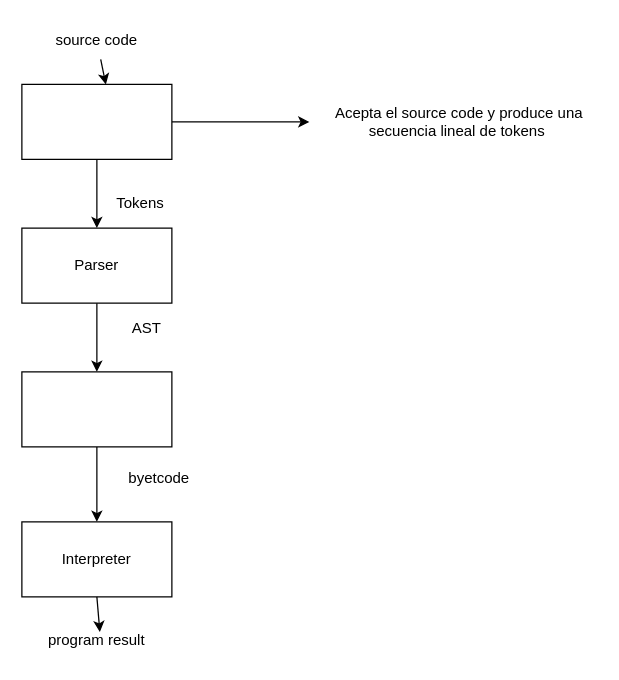
Some shapes in this 619 by 680 pixel diagram are drawn without their labels. Here are the shapes that lost their labels. From the top down, the centre of each, then its label:
the point at 96,121: Tokenizer
the point at 96,409: Compiler
